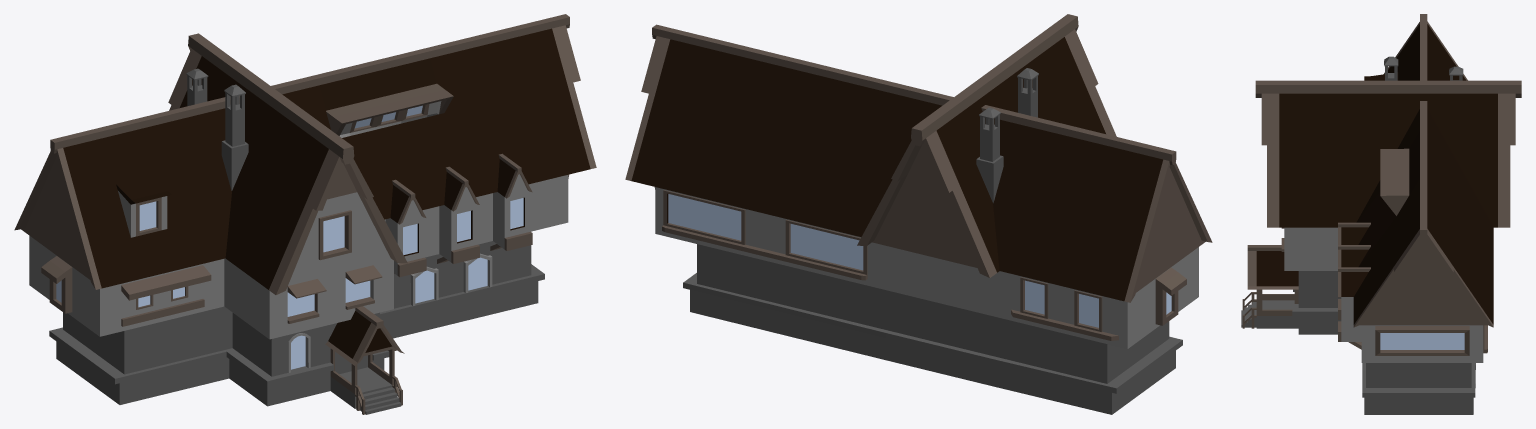
Rendered from Inn_RJ_2709.fbx.
3 renders of one model, left to right at view 1: azimuth 30°, elevation 25°; view 2: azimuth 150°, elevation 25°; view 3: azimuth 270°, elevation 25°, orthographic. The views are drawn at different scales.
Parts seen in each view (by area): view 1: Inn; view 2: Inn; view 3: Inn.
Part boxes in pixels (bbox=[...]): Inn: bbox=[14, 14, 596, 414]; Inn: bbox=[625, 14, 1212, 414]; Inn: bbox=[1241, 14, 1521, 414].
Size of the model in its own units: 2338 by 1185 by 1271.
